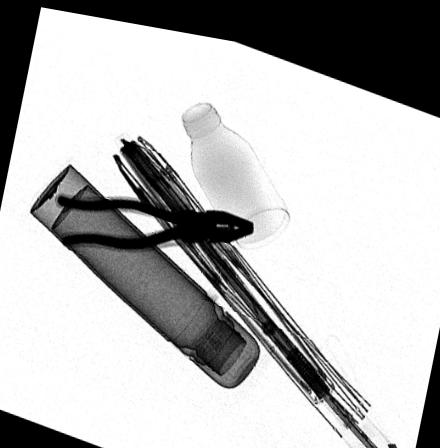Pliers: (53, 190, 254, 244)
